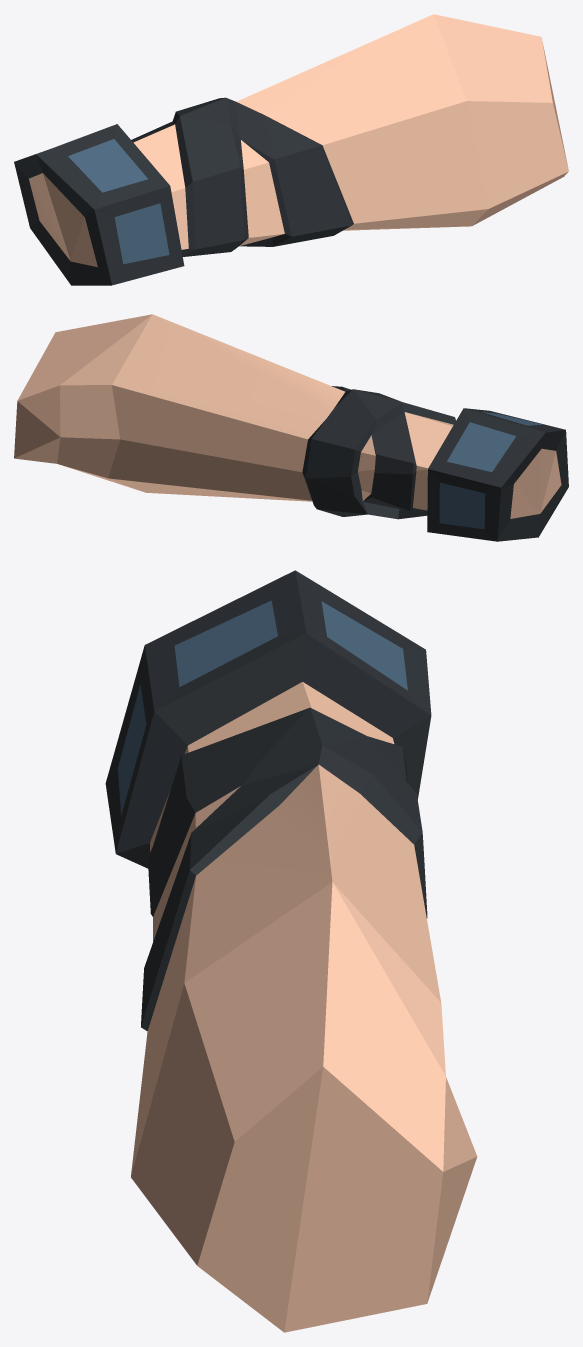
File: Chr_ArmLowerRight_Female_13_Static.fbx
3 views of the same model, one above another, from view 1: azimuth 30°, elevation 25°; view 2: azimuth 150°, elevation 25°; view 3: azimuth 270°, elevation 25° (orthographic). The views are drawn at different scales.
Visible parts, largest first — view 1: Chr_ArmLowerRight_Female_13_Static; view 2: Chr_ArmLowerRight_Female_13_Static; view 3: Chr_ArmLowerRight_Female_13_Static.
Boxes of the visible parts, x1,y1,x2,y2 form: Chr_ArmLowerRight_Female_13_Static: (14,14,568,285); Chr_ArmLowerRight_Female_13_Static: (14,314,568,541); Chr_ArmLowerRight_Female_13_Static: (105,570,477,1332).
Size of the model in its own units: 0.2933 by 0.1093 by 0.0947.
